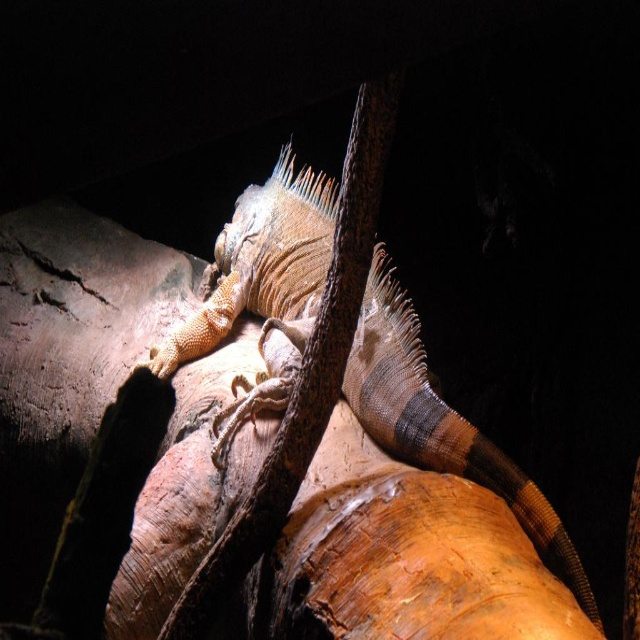Lizard: (149, 138, 602, 635)
